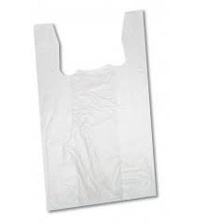plastic_bag: (28, 5, 164, 216)
